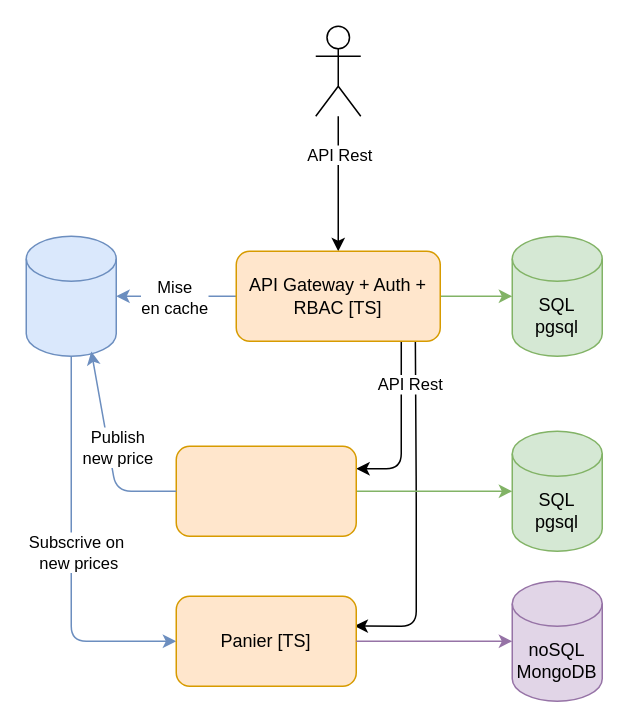
Some shapes in this 629 by 728 pixel diagram are drawn without their labels. Each missing label, with the centre of its shape:
Produits [JS]: point 265,490
REDIS: point 70,295
